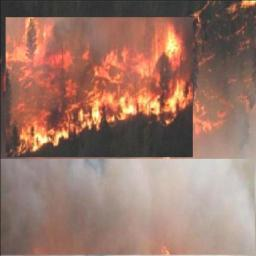Heavy smoke: (4, 157, 254, 253)
Large fire: (4, 24, 190, 150)
